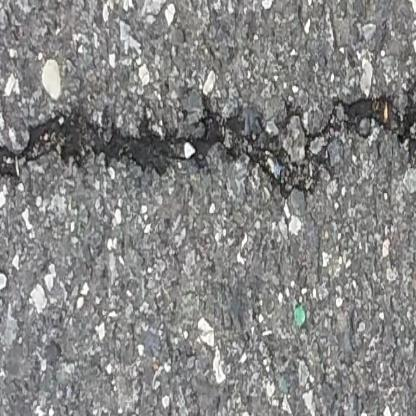Cracks: (0, 78, 416, 201)
